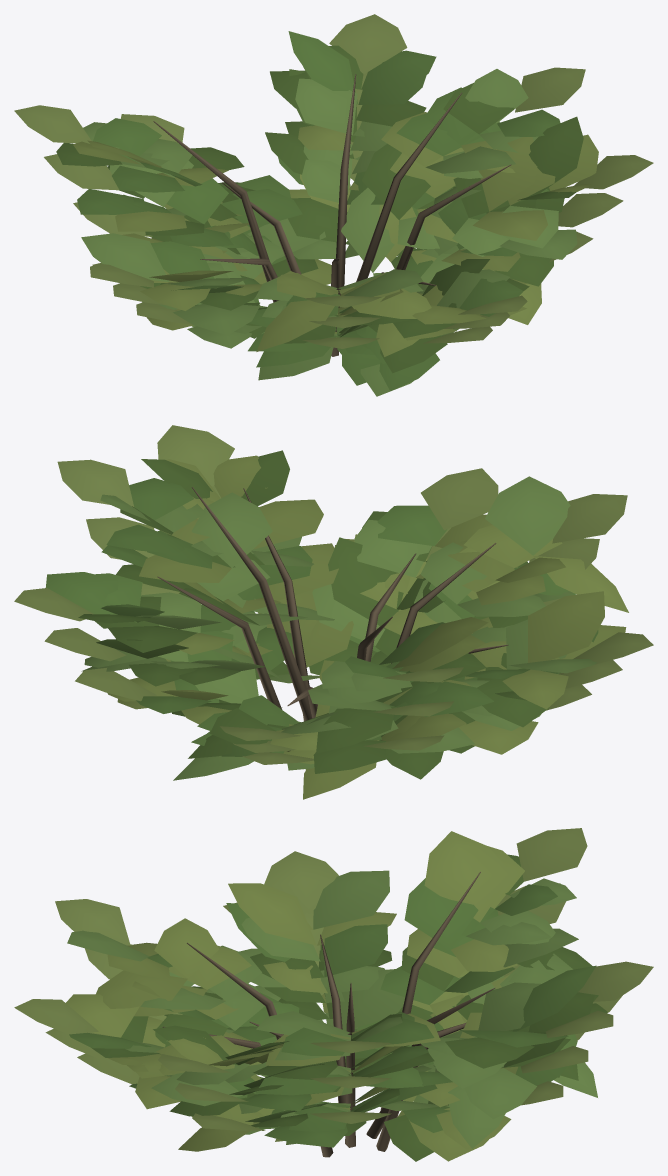
File: underwood-1.glb
3 renders of one model, top to bottom at view 1: azimuth 30°, elevation 25°; view 2: azimuth 150°, elevation 25°; view 3: azimuth 270°, elevation 25°, orthographic. The views are drawn at different scales.
Parts seen in each view (by area): view 1: LAND02 underwood-1; view 2: LAND02 underwood-1; view 3: LAND02 underwood-1.
Boxes of the visible parts, x1,y1,x2,y2 form: LAND02 underwood-1: [14, 14, 653, 396]; LAND02 underwood-1: [14, 425, 653, 799]; LAND02 underwood-1: [14, 828, 653, 1161].
Bounding box in the file's own units: 2.64 × 1.04 × 2.68.
